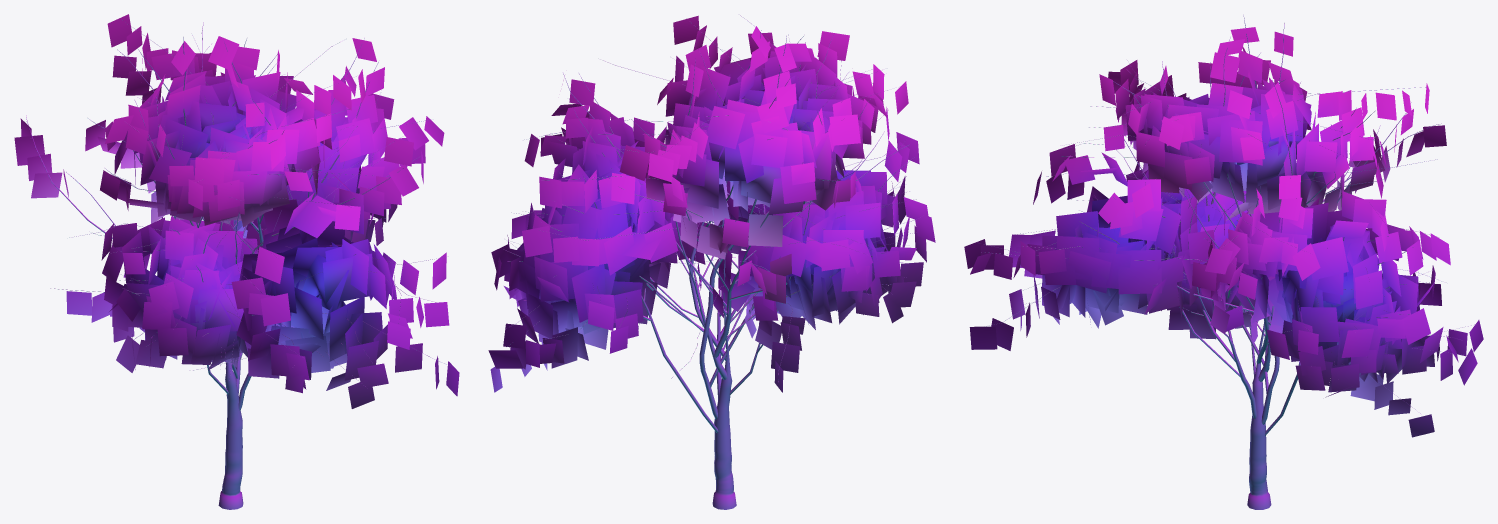
The model's file is tree_birch_s6_a30.fbx.
3 renders of one model, left to right at view 1: azimuth 30°, elevation 25°; view 2: azimuth 150°, elevation 25°; view 3: azimuth 270°, elevation 25°, orthographic. The views are drawn at different scales.
Visible parts, largest first — view 1: tree_birch_s6_a30_leaves, tree_birch_s6_a30_branches; view 2: tree_birch_s6_a30_leaves, tree_birch_s6_a30_branches; view 3: tree_birch_s6_a30_leaves, tree_birch_s6_a30_branches.
Part boxes in pixels (x1,y1,x2,y2): tree_birch_s6_a30_leaves: (14, 14, 459, 408); tree_birch_s6_a30_branches: (26, 20, 452, 509); tree_birch_s6_a30_leaves: (488, 15, 935, 392); tree_birch_s6_a30_branches: (503, 15, 920, 509); tree_birch_s6_a30_leaves: (964, 27, 1483, 437); tree_birch_s6_a30_branches: (977, 15, 1476, 509).
Bounding box in the file's own units: 8.16 × 10.82 × 10.95.
